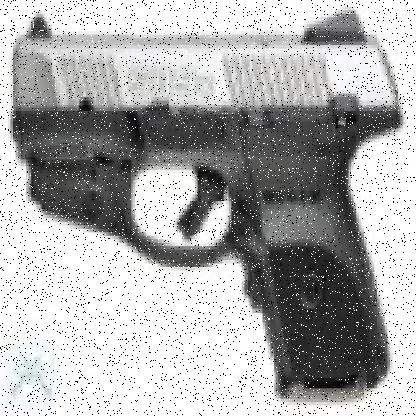pistol: (18, 3, 385, 381)
